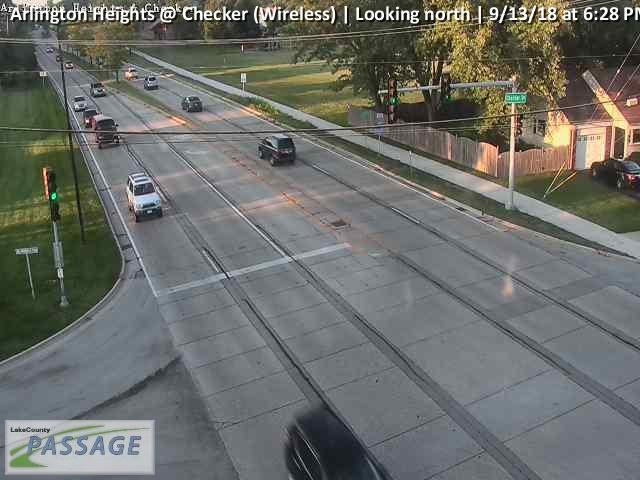SUV: (283, 404, 384, 480), (125, 171, 165, 220), (256, 135, 296, 165), (84, 108, 98, 125), (91, 82, 105, 96), (143, 76, 158, 89)
Sedan: (591, 157, 640, 192), (182, 96, 203, 111), (72, 95, 88, 110), (125, 68, 137, 80), (65, 61, 73, 68)
Truck: (90, 115, 120, 146)
